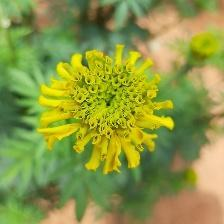marigold: (39, 49, 177, 176)
